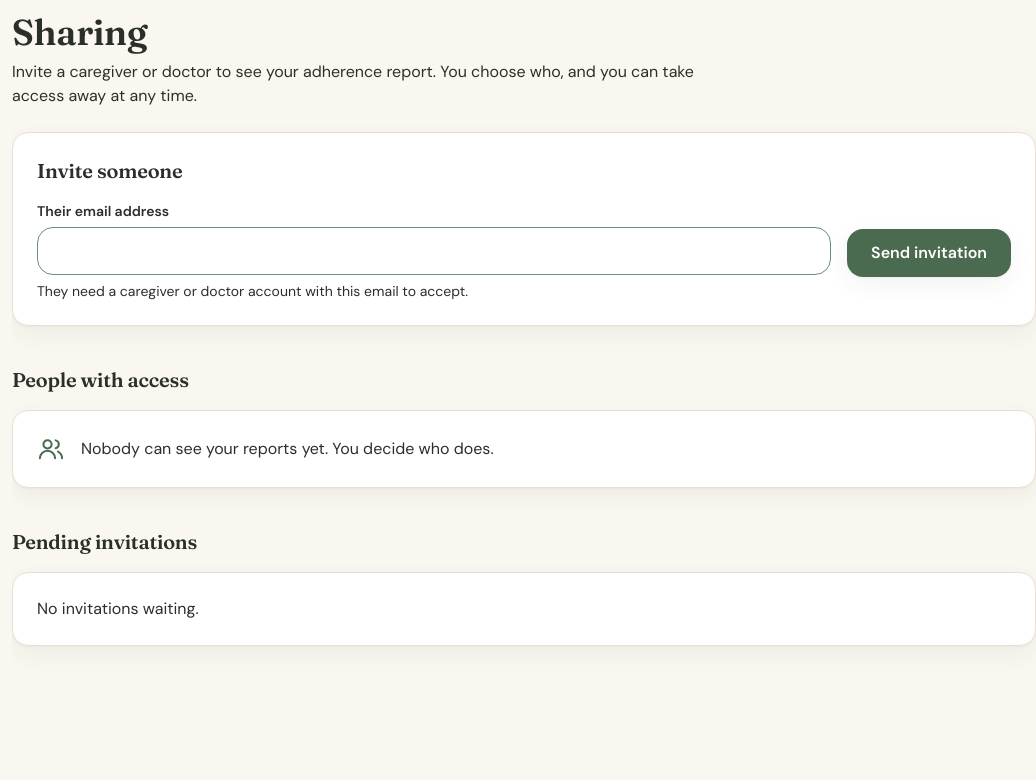
Test: SharingPage: inviting › falls back to the same neutral sentence if the API sends no text
Expected: the text "No invitations waiting." is shown, [37,598,199,619]
Type "a@example.com" into the field labelled "Their email address". click: (434, 251)
box: [37,227,831,275]
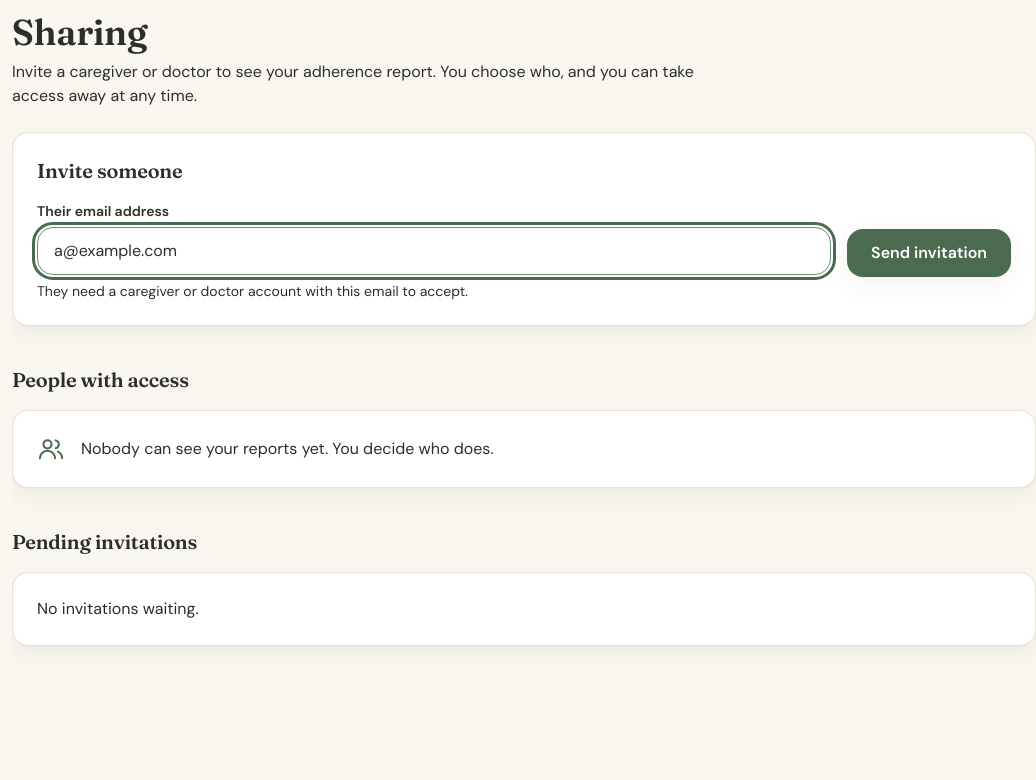
Click the button "Send invitation". click: (929, 253)
box: [847,229,1011,277]
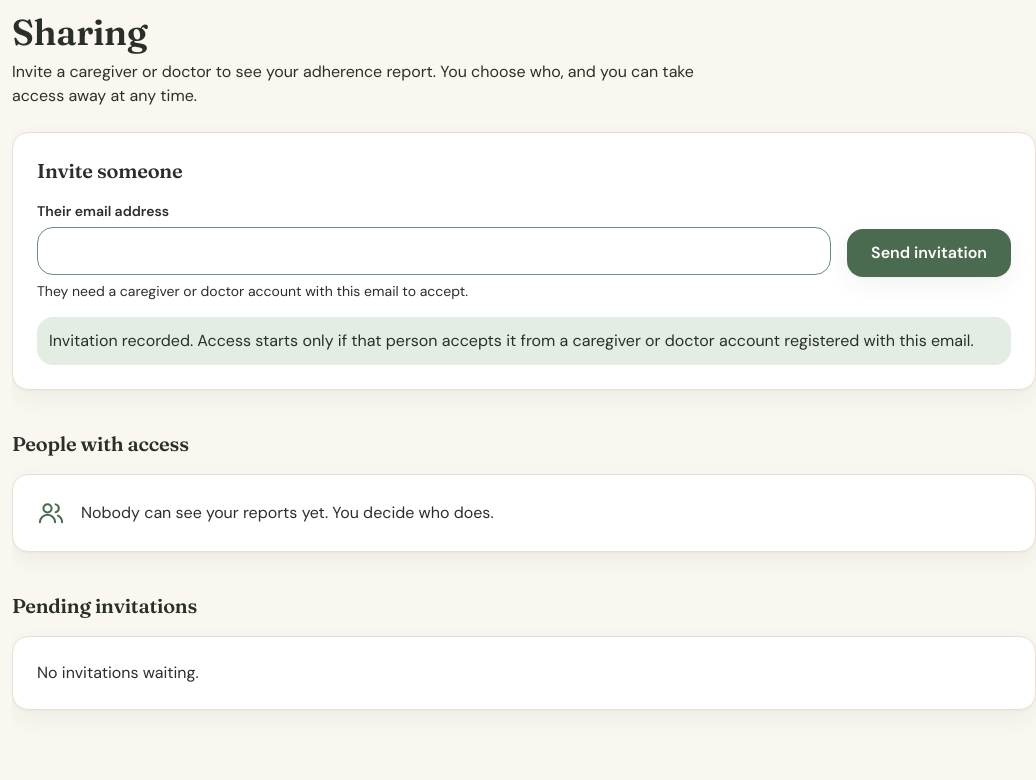
Now the message shows "Invitation recorded. Access starts only if that person accepts it from a caregiver or doctor account registered with this email.", box [49,330,974,351]
